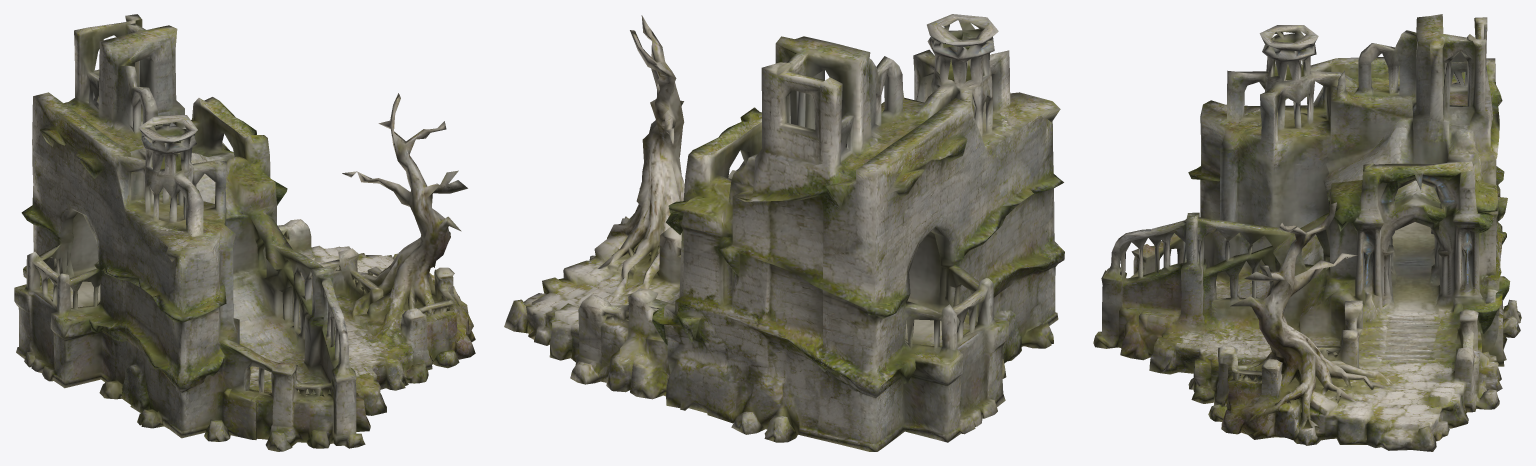
Rendered from env_tree.glb.
The picture shows the model from 3 angles, left to right: view 1: azimuth 30°, elevation 25°; view 2: azimuth 150°, elevation 25°; view 3: azimuth 270°, elevation 25°; orthographic projection. The views are drawn at different scales.
Parts seen in each view (by area): view 1: tripo_node_a6dc792c-33aa-405b-be0f-38f39fcab7eb; view 2: tripo_node_a6dc792c-33aa-405b-be0f-38f39fcab7eb; view 3: tripo_node_a6dc792c-33aa-405b-be0f-38f39fcab7eb.
Part boxes in pixels (x1,y1,x2,y2): tripo_node_a6dc792c-33aa-405b-be0f-38f39fcab7eb: (14,14,475,451); tripo_node_a6dc792c-33aa-405b-be0f-38f39fcab7eb: (504,14,1064,451); tripo_node_a6dc792c-33aa-405b-be0f-38f39fcab7eb: (1093,14,1521,451).
Size of the model in its own units: 1 by 0.7389 by 0.9768.
1 material, 1 textured.
